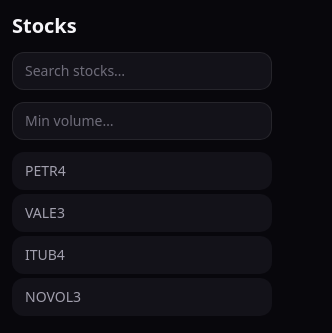
AssetList › volume filter › lets items without volume data through regardless of the threshold
In the number field named "Minimum volume for Stocks": [142, 121] box [12, 102, 272, 140], type "999999999"
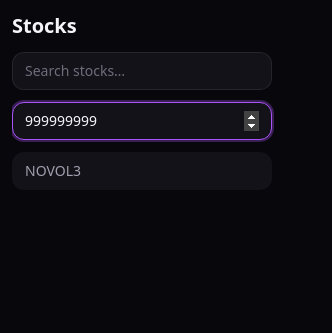
expect the button "NOVOL3" is shown: met, box [12, 152, 272, 190]
expect the button "PETR4" is gone: met
